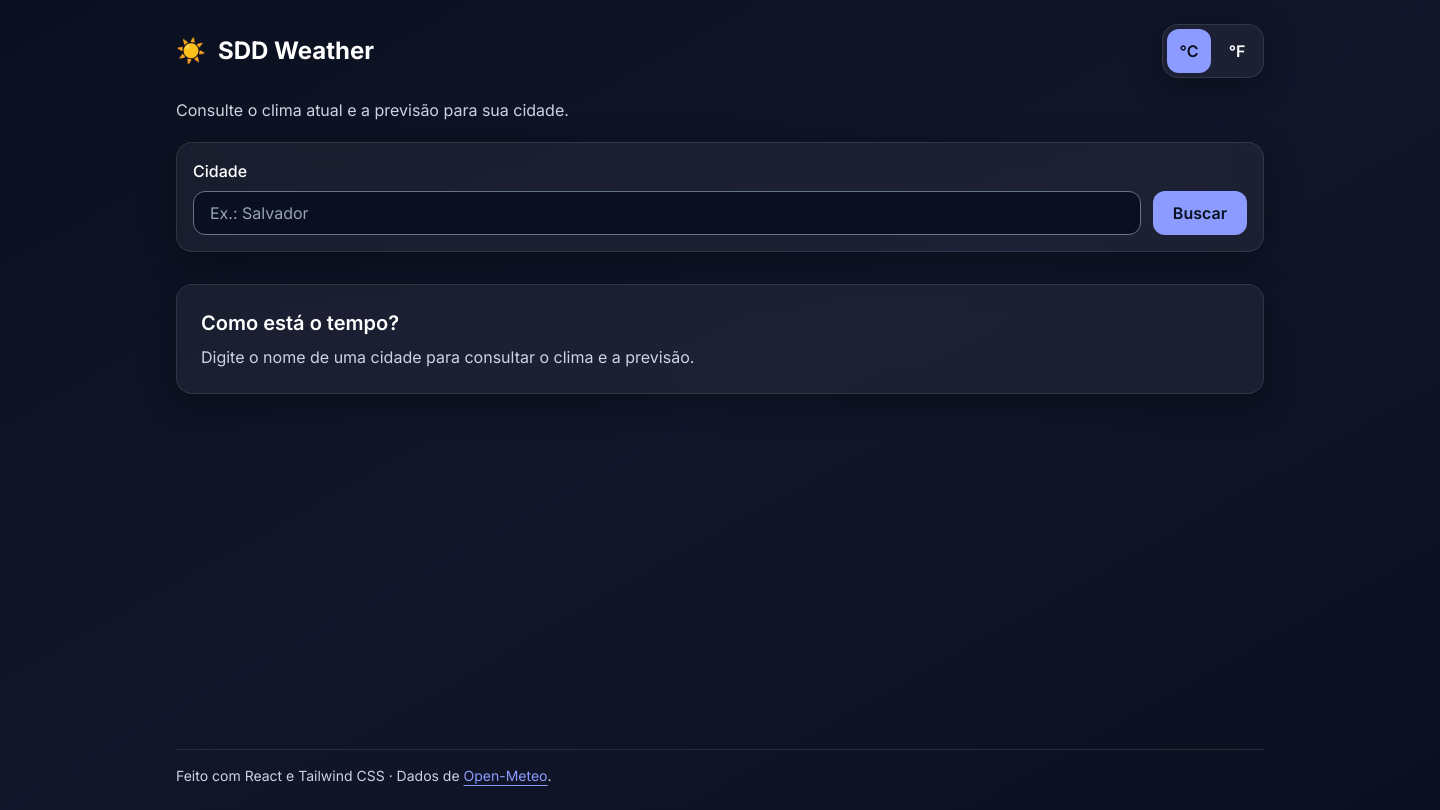
Scenario: App integrado › apresenta os dados retornados em vez do snapshot fixo de Salvador
Type "Recife" into the search field labelled "Cidade".
click(667, 213); type("Recife")  # box [193,191,1141,235]
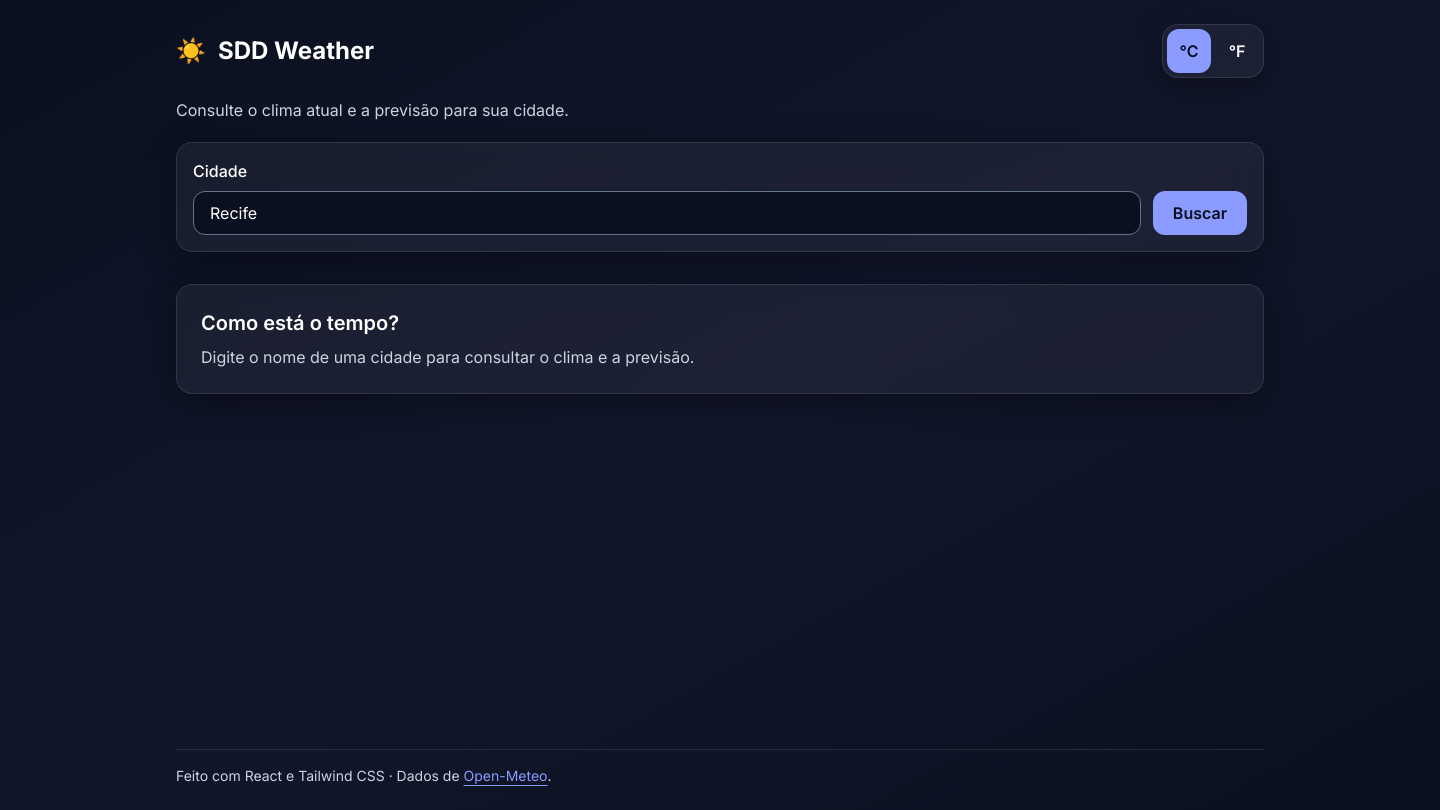
Submit the form, box [176,142,1264,252]
(page scrolled)
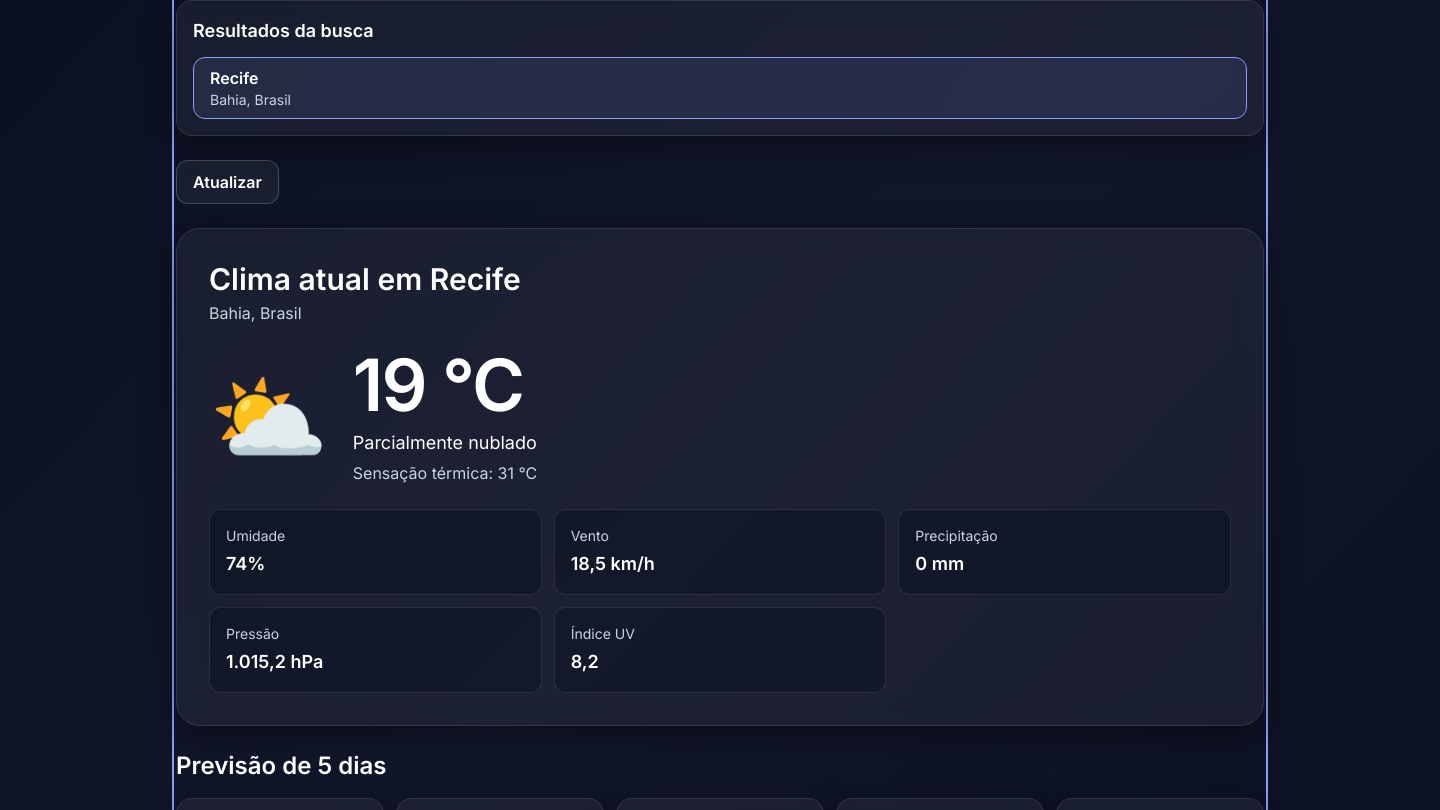
Expected: the heading "Clima atual em Recife" is shown, [209,261,521,297]
Expected: the text "19 °C" is shown, [353,349,537,421]
